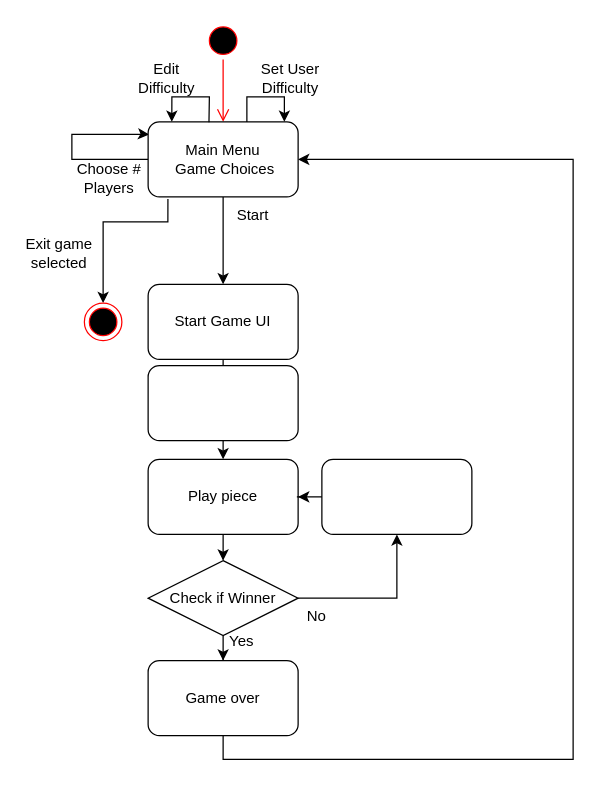
Image size: 605x791. Some labels were removed from this diagram. The shapes that lost their labels are listed below. From the top down, each one's centre as x and y in pixels, then its label:
At (222,402): "start player 1".
At (396,496): "start next player".
